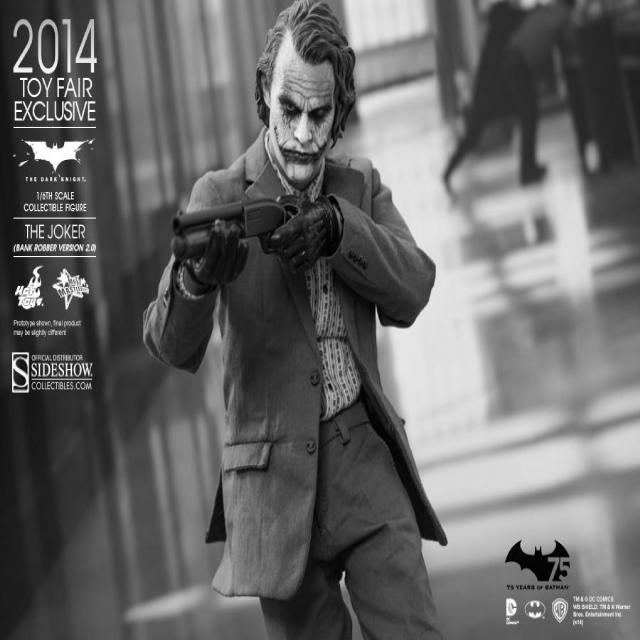gun: (172, 198, 308, 258)
